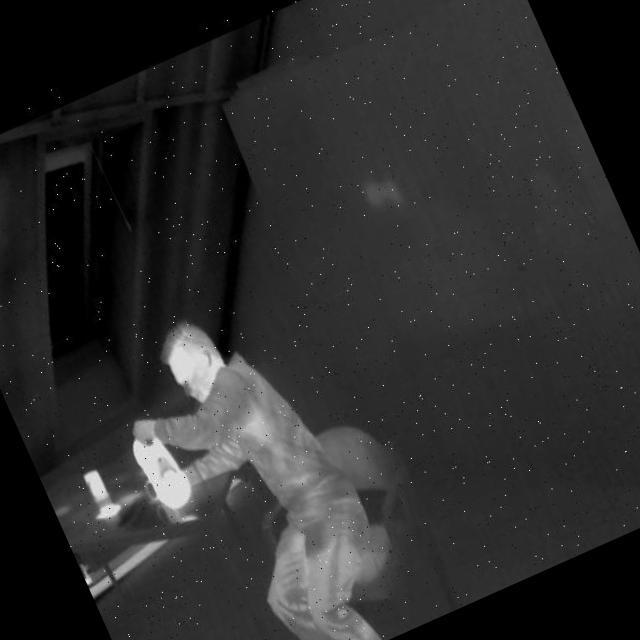person: (92, 259, 451, 640)
